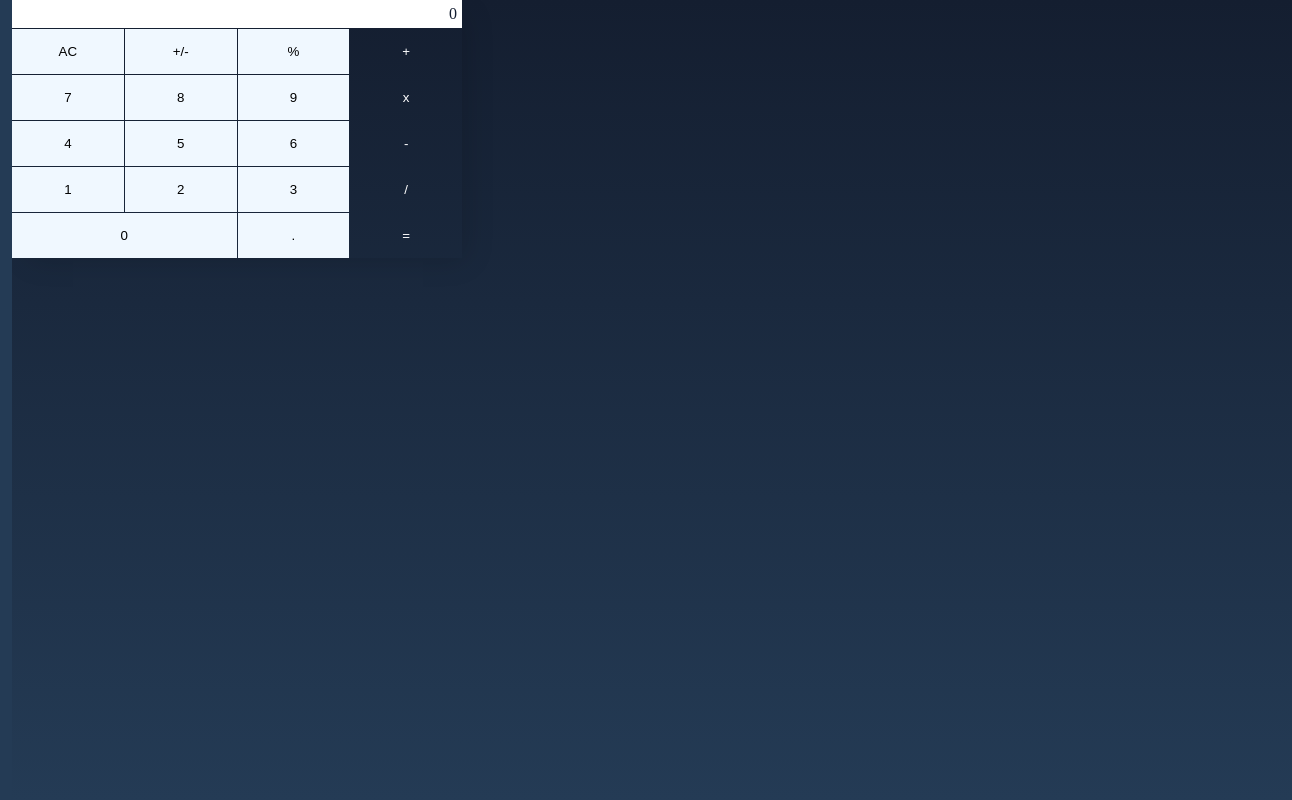
Test: Calculator › should set screen innerTextContent to calculation result when "=" button clicked
The width and height of the screenshot is (1292, 800).
Click the button "1": (68, 190) left=12, top=167, right=124, bottom=212
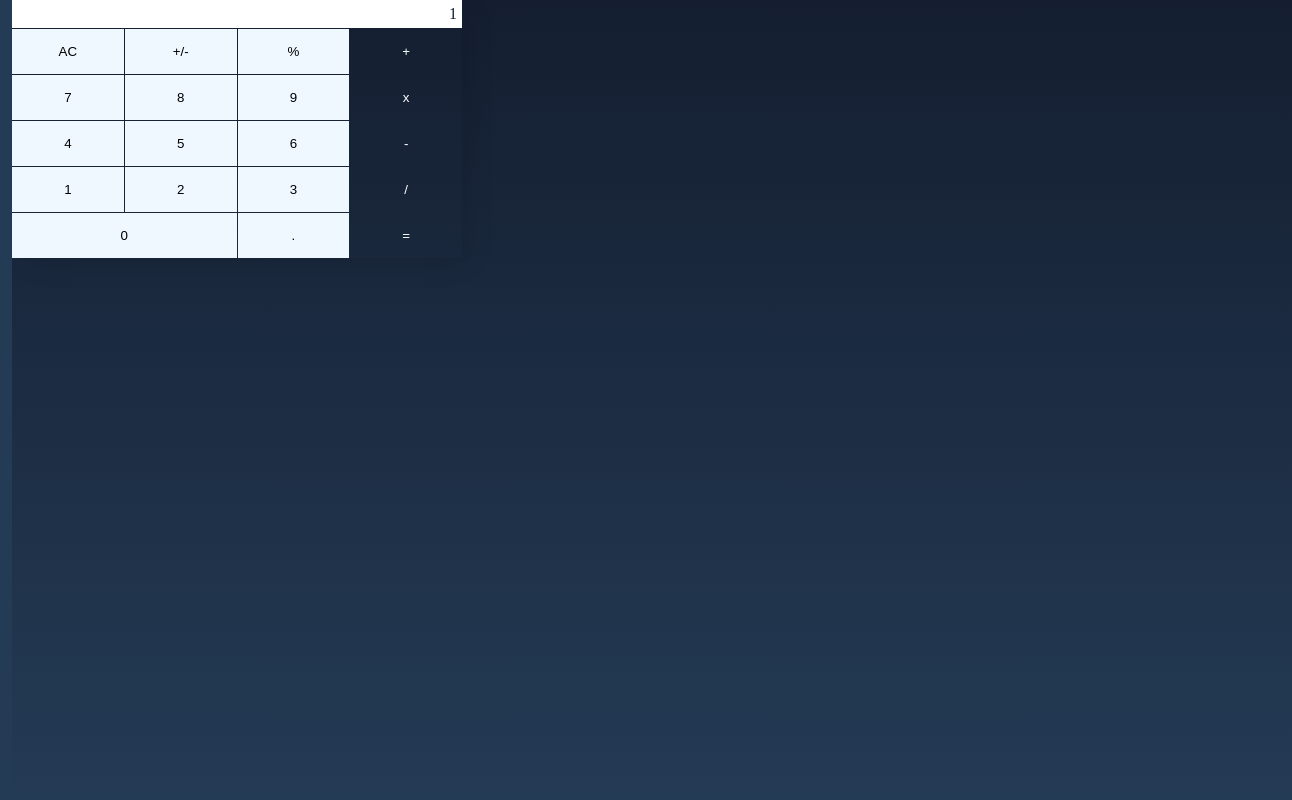
Click the button "+": (406, 52) left=350, top=29, right=462, bottom=74
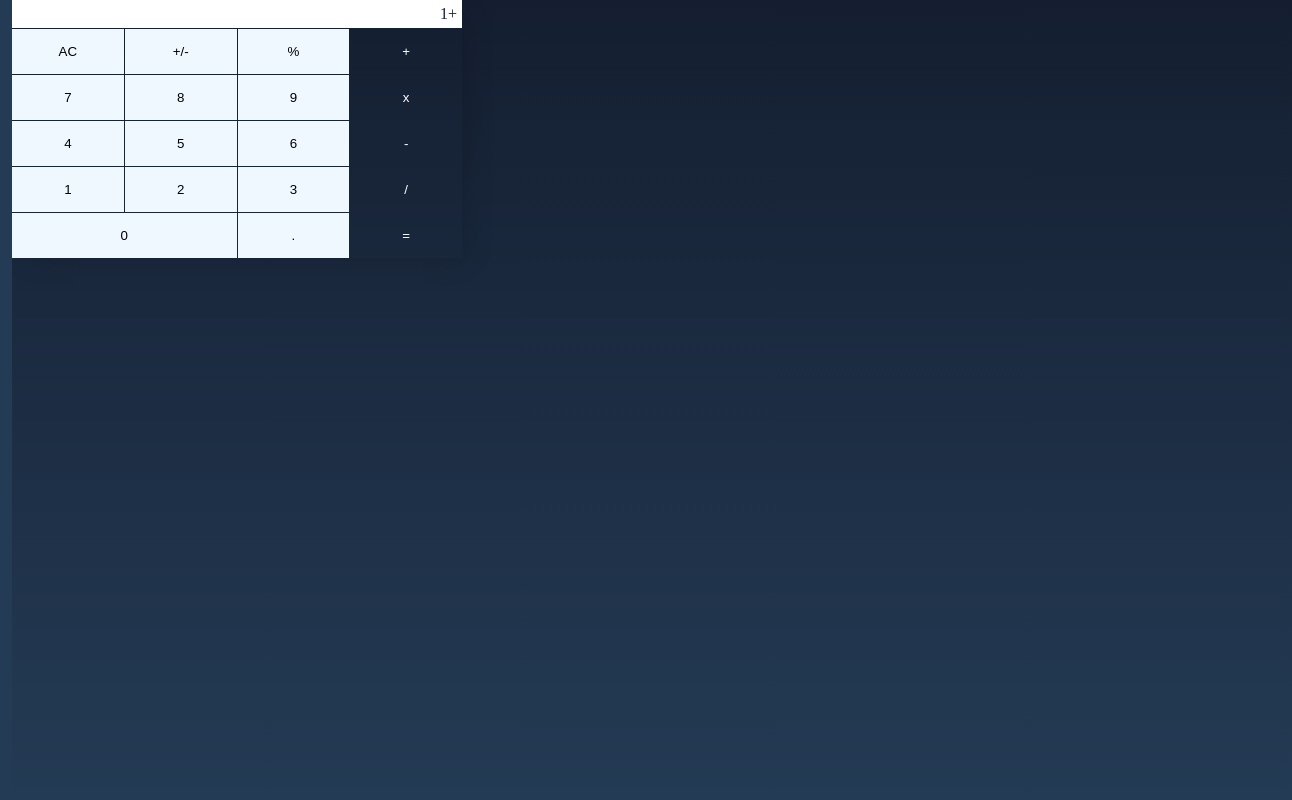
Click the button "2": (181, 190) left=125, top=167, right=237, bottom=212
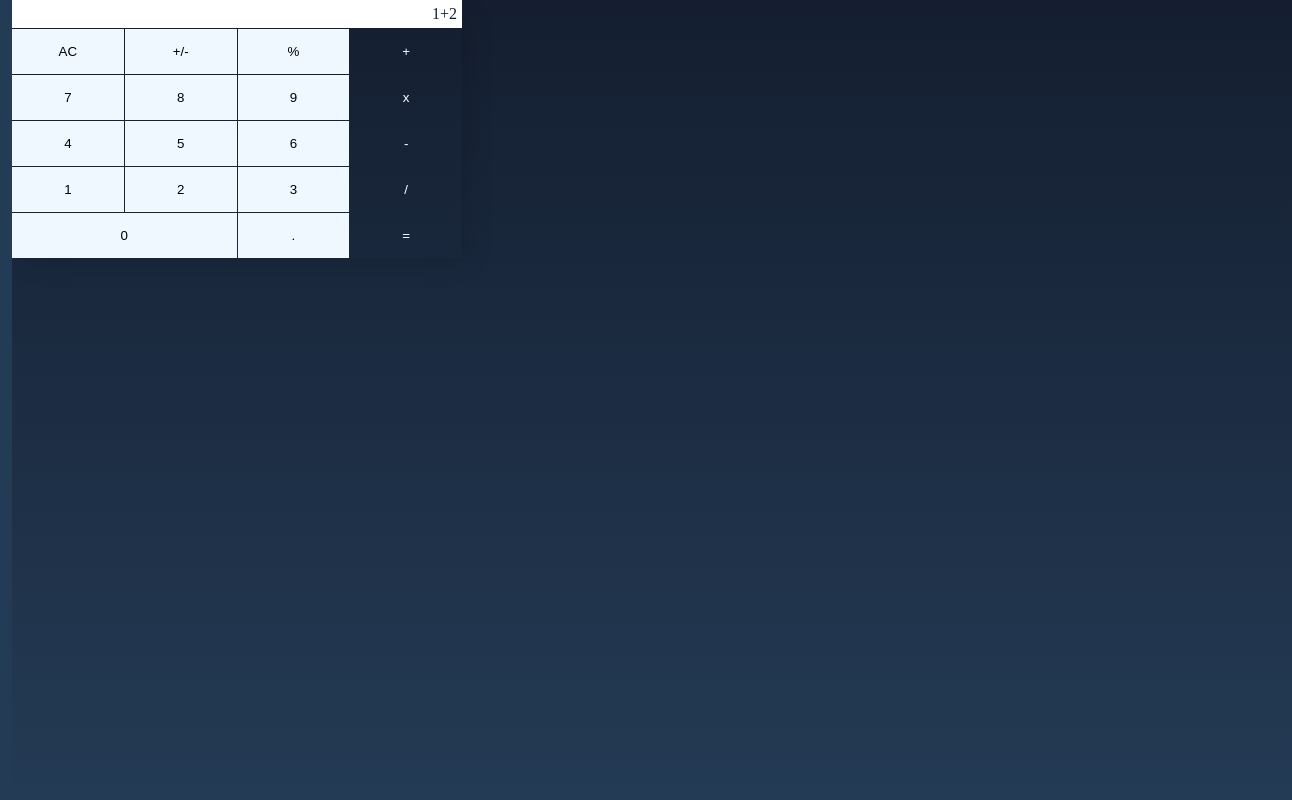
Click the button "=": (406, 236) left=350, top=213, right=462, bottom=258
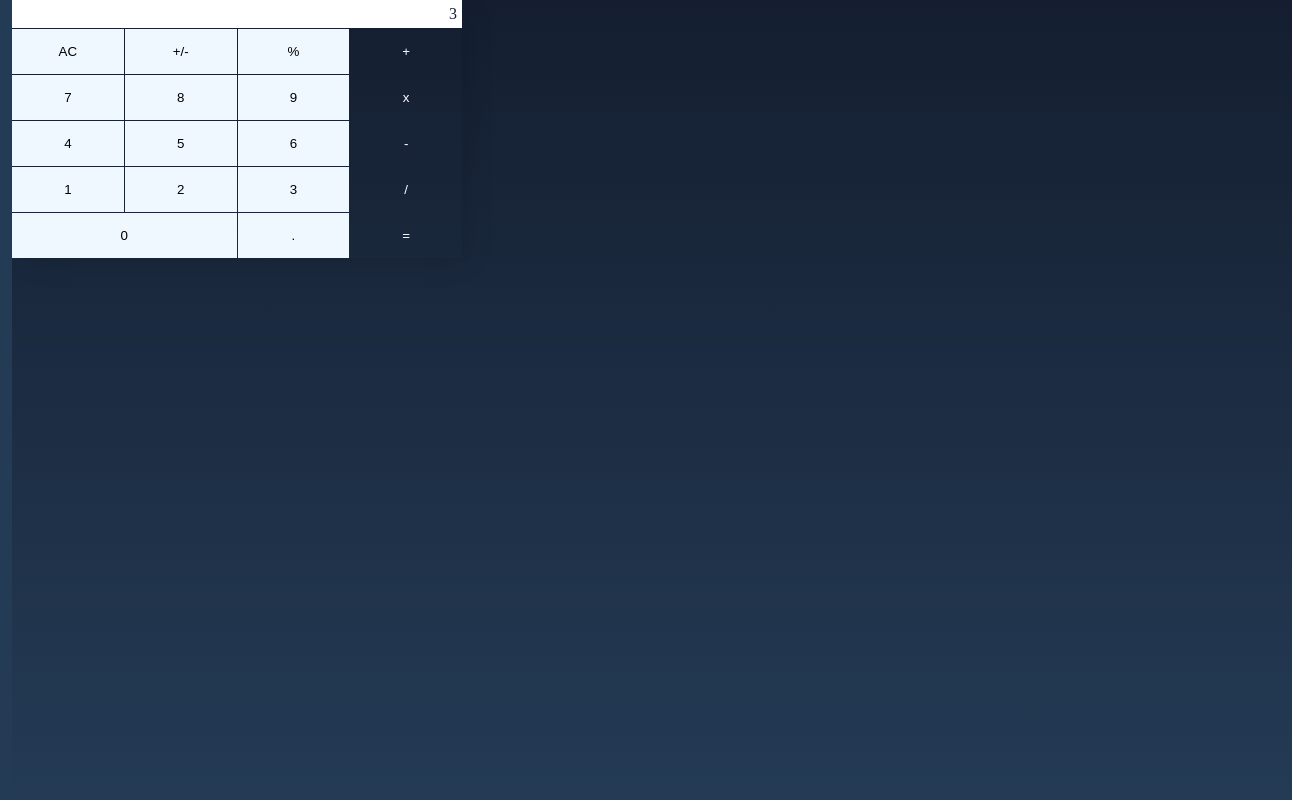
Check: the text with test id "screenTestId" reads "3", box left=449, top=5, right=457, bottom=22
